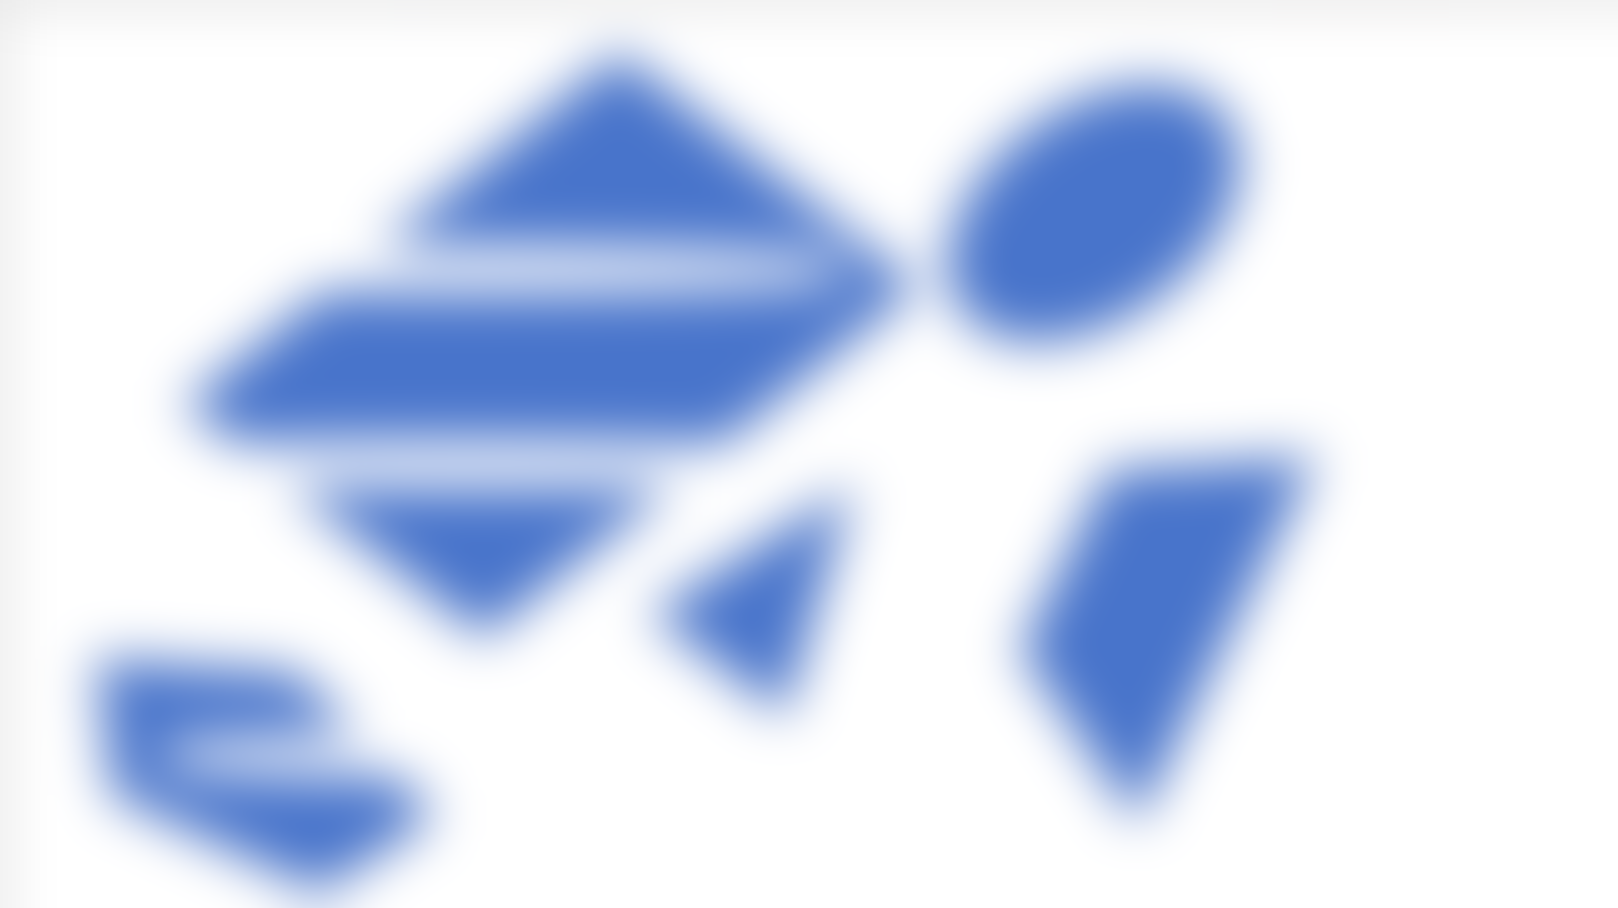circle: (910, 61, 1314, 373)
parallelogram: (189, 49, 898, 633)
pentagon: (80, 641, 479, 908)
trapezium: (996, 435, 1364, 826)
triangle: (652, 493, 910, 710)
